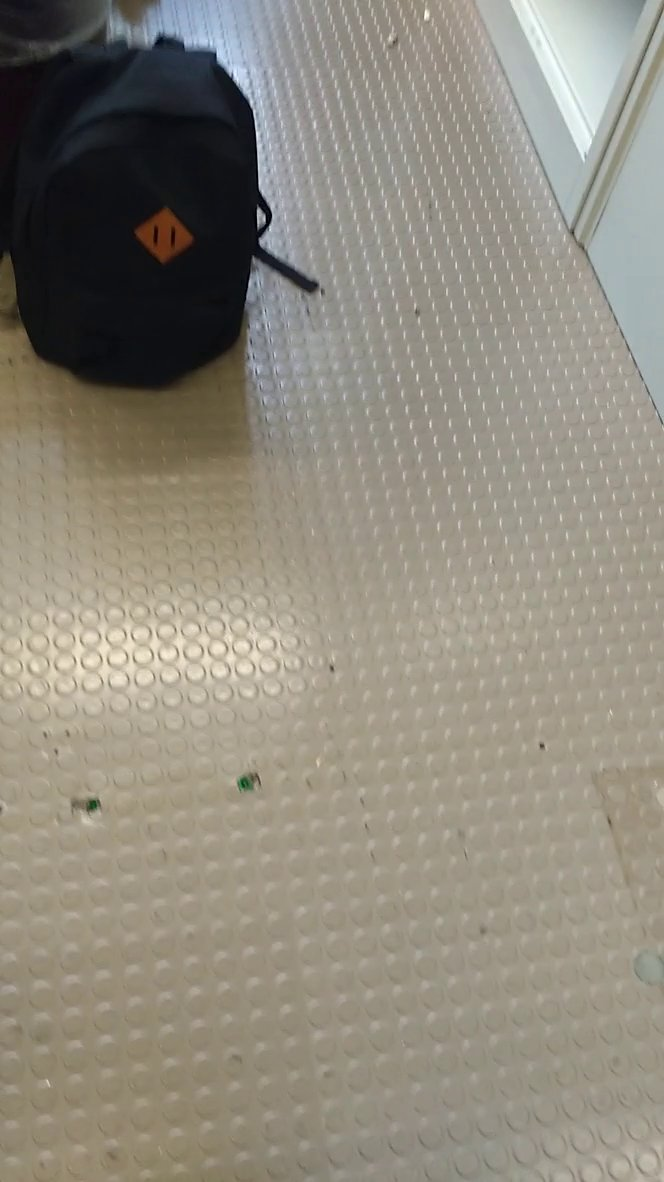bag: (1, 28, 314, 405)
